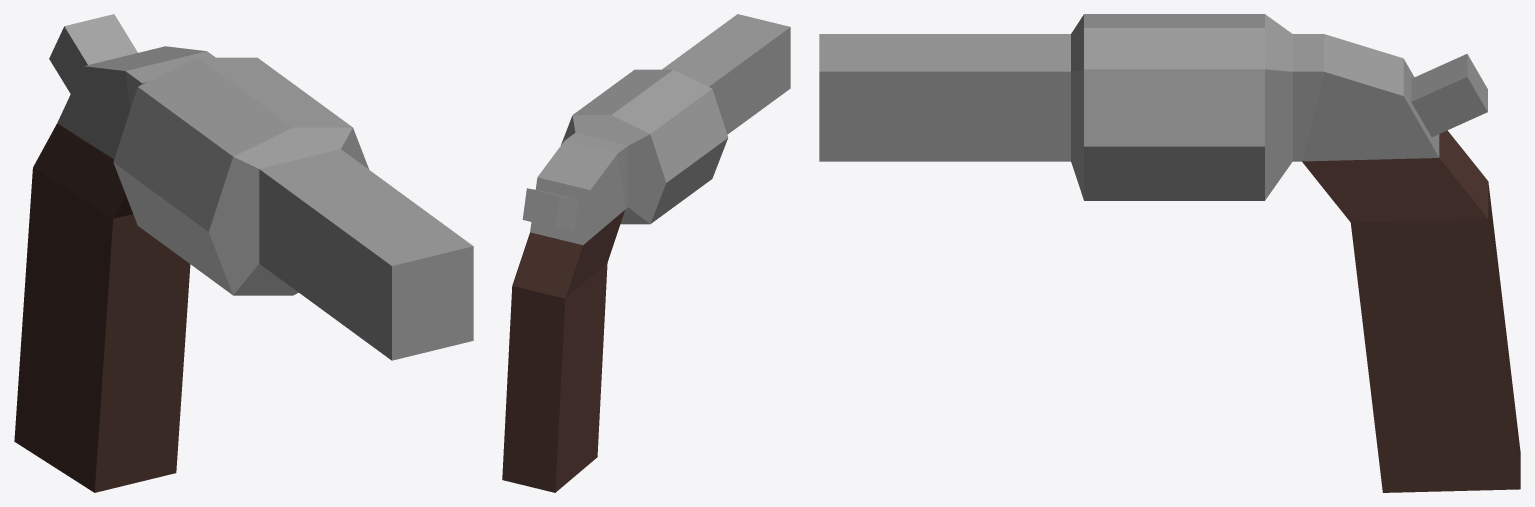
The model's file is Gun.fbx.
The picture shows the model from 3 angles, left to right: view 1: azimuth 30°, elevation 25°; view 2: azimuth 150°, elevation 25°; view 3: azimuth 270°, elevation 25°; orthographic projection. The views are drawn at different scales.
Parts seen in each view (by area): view 1: Gun; view 2: Gun; view 3: Gun.
Boxes of the visible parts, x1=… form: Gun: x1=14, y1=14, x2=473, y2=492; Gun: x1=502, y1=14, x2=790, y2=492; Gun: x1=819, y1=14, x2=1520, y2=492.
Size of the model in its own units: 0.0713 by 0.19 by 0.2705.
